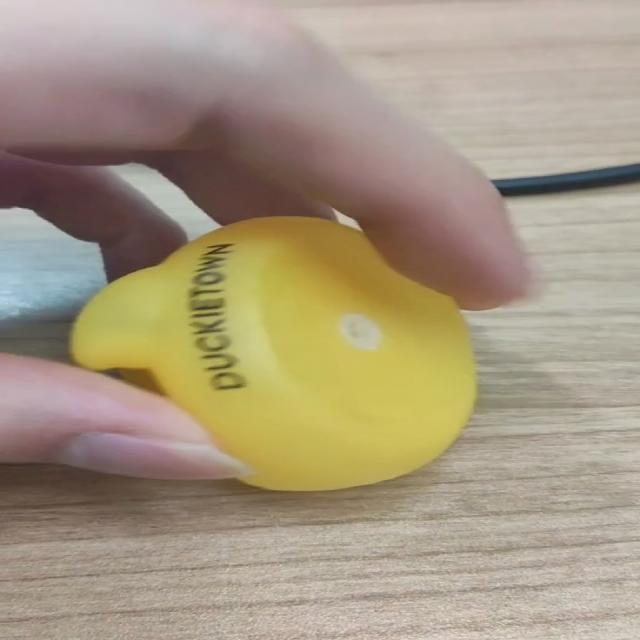rubber-duck: (70, 216, 474, 488)
